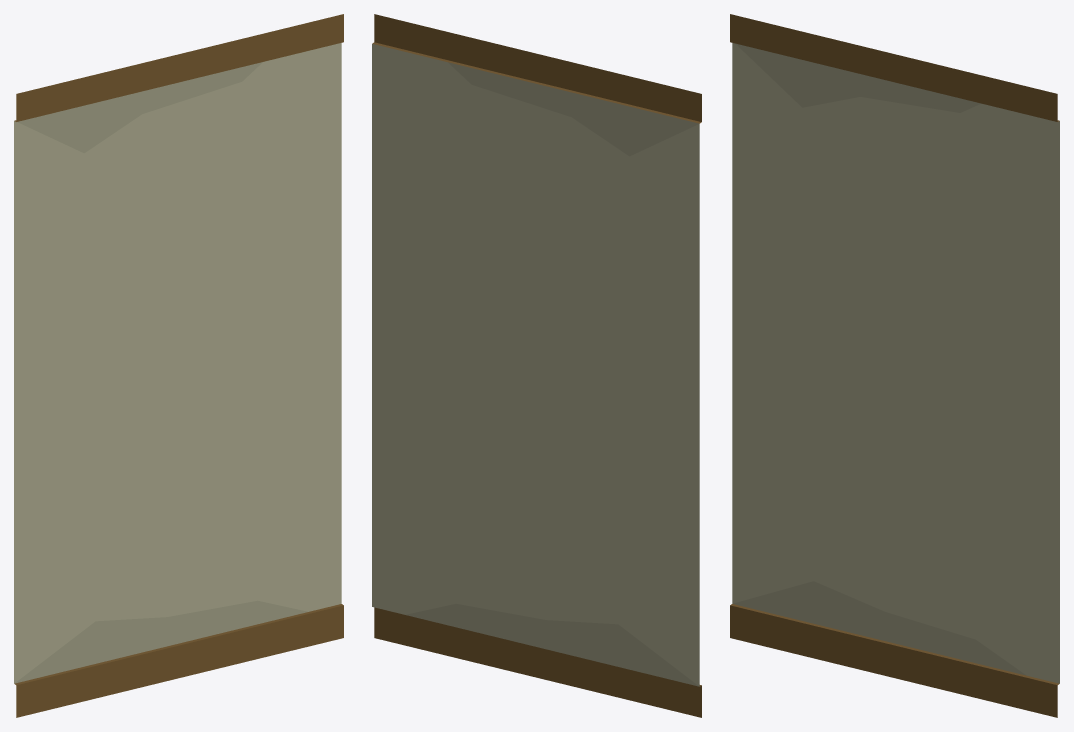
Rendered from AI_Env_Wall_Church_Blank.fbx.
The picture shows the model from 3 angles, left to right: view 1: azimuth 30°, elevation 25°; view 2: azimuth 150°, elevation 25°; view 3: azimuth 330°, elevation 25°; orthographic projection.
Visible parts, largest first — view 1: AI_Env_Wall_Church_Blank; view 2: AI_Env_Wall_Church_Blank; view 3: AI_Env_Wall_Church_Blank.
Part boxes in pixels (bbox=[...]): AI_Env_Wall_Church_Blank: bbox=[14, 14, 343, 717]; AI_Env_Wall_Church_Blank: bbox=[372, 14, 701, 717]; AI_Env_Wall_Church_Blank: bbox=[730, 14, 1059, 717].
Bounding box in the file's own units: 5 × 9.1 × 0.0549.
